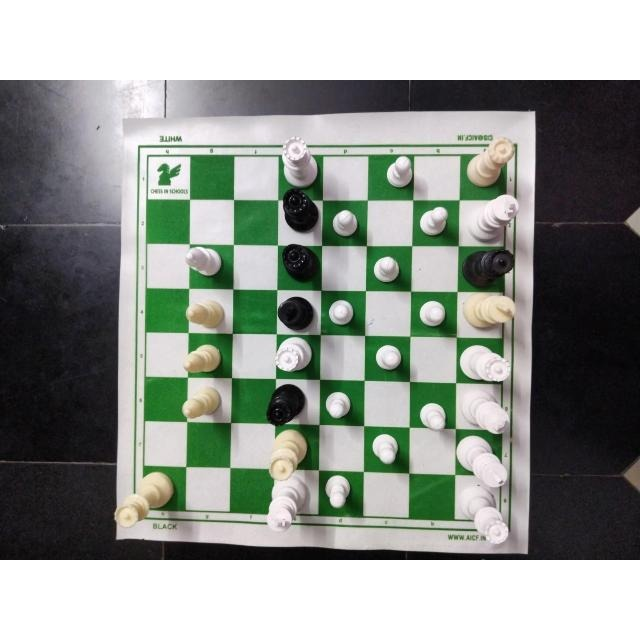black-king: (275, 293, 315, 331)
black-queen: (462, 247, 517, 291), (275, 187, 321, 231), (268, 385, 308, 427), (279, 241, 313, 283)
white-bishop: (177, 344, 225, 380), (178, 385, 221, 423), (182, 291, 229, 323), (184, 242, 226, 275)
white-king: (453, 431, 509, 492), (460, 385, 516, 435), (467, 195, 519, 242), (265, 481, 315, 526), (461, 294, 518, 333)
white-pawn: (381, 158, 419, 192), (368, 433, 403, 469), (323, 474, 355, 513), (417, 205, 452, 238), (417, 400, 450, 435), (332, 206, 363, 242), (376, 341, 406, 374), (418, 299, 448, 331), (323, 391, 355, 419), (326, 295, 354, 325), (374, 258, 401, 286)
white-queen: (112, 473, 180, 528), (459, 490, 516, 544), (462, 137, 514, 188), (458, 340, 514, 381), (267, 428, 312, 477), (280, 134, 322, 186), (275, 334, 313, 378)
